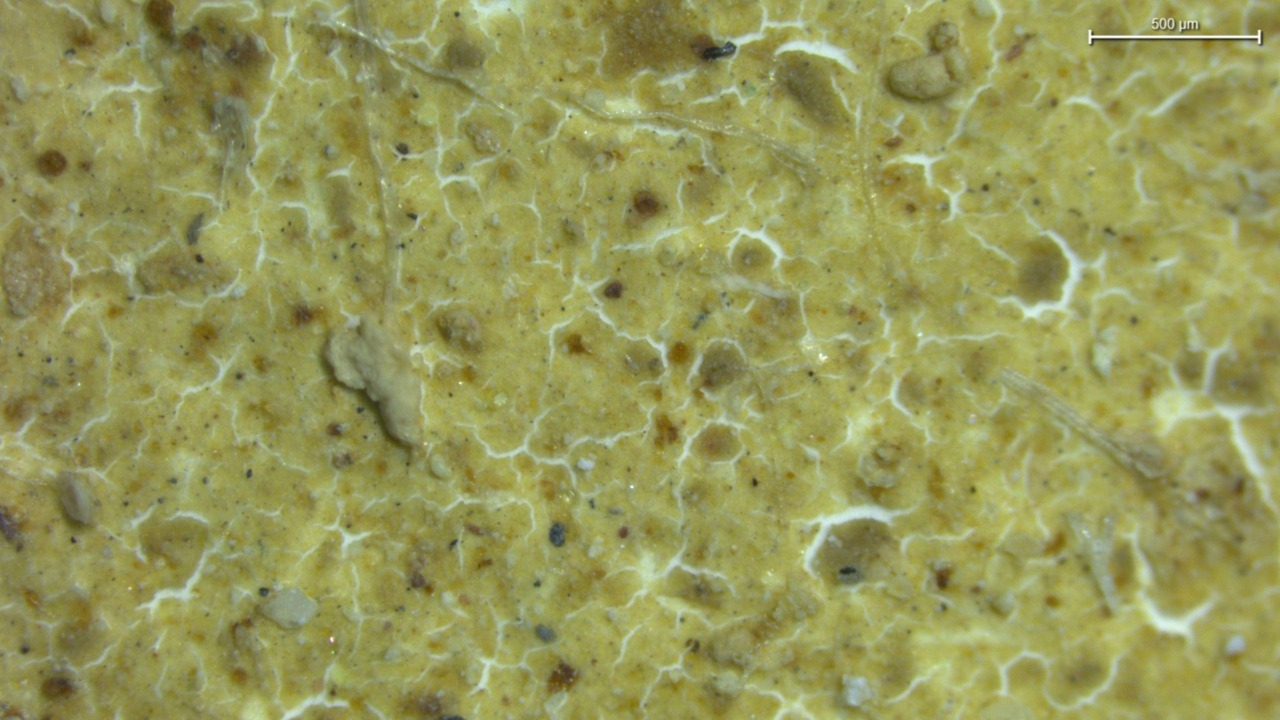microplastic_fragment: (324, 320, 422, 447), (885, 23, 969, 100), (58, 473, 94, 524)
